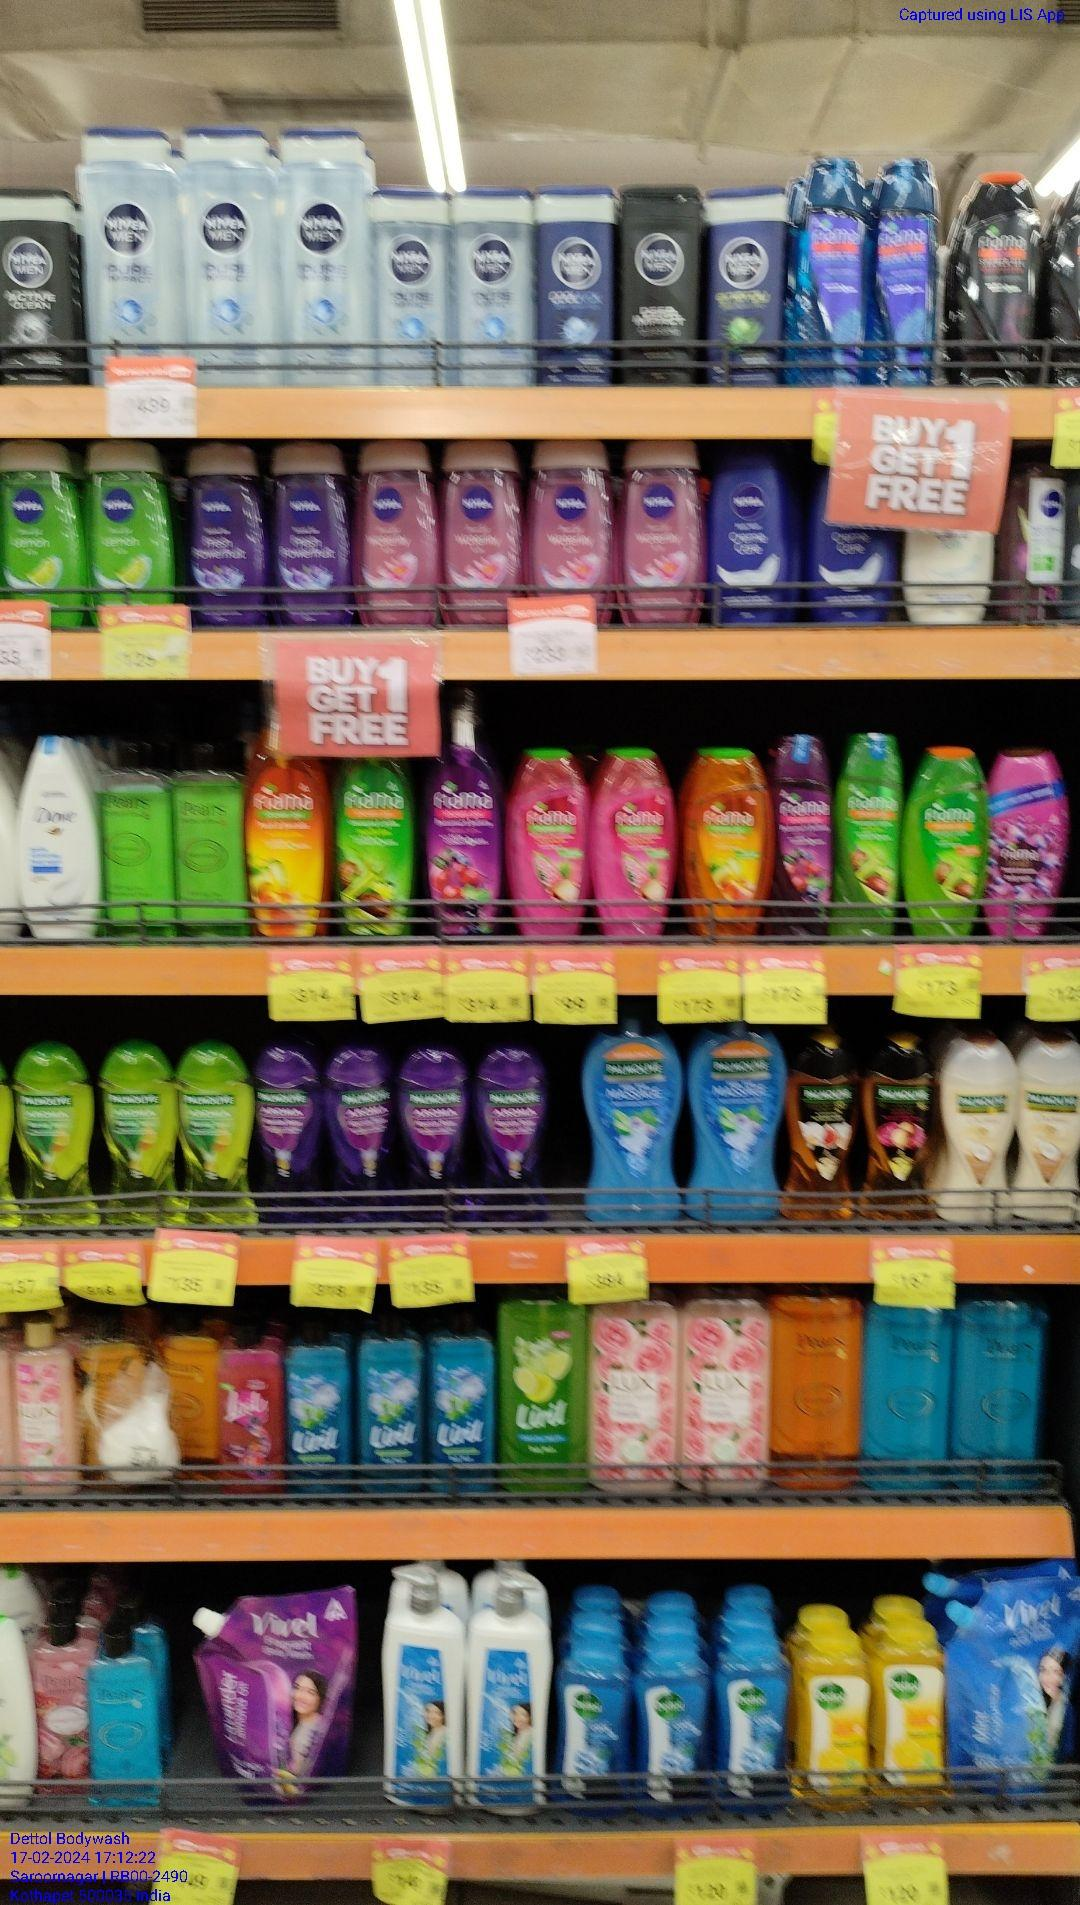Dettol_Bodywash_Cool: (551, 1633, 632, 1802), (712, 1635, 785, 1808), (639, 1634, 706, 1802)
Dettol_Bodywash_Refresh: (789, 1634, 872, 1802), (877, 1616, 952, 1800)
Dove_Gentle_Exfoliating_Body_Wash_250ML: (18, 730, 99, 935)
Fiama_Shower_Gel_Lemongrass_and_Jojoba_250ML: (901, 746, 987, 938)
Fiama_Shower_Gel_Patchouli_and_Macadamia_250ML: (593, 746, 678, 939), (512, 744, 589, 935)
Fiama_Shower_Gel_Peach_and_Avocado_250ML: (681, 746, 772, 933)
Liril_Cooling_Mint_Body_Wash_250ML: (429, 1306, 494, 1494), (360, 1311, 423, 1493), (287, 1316, 350, 1489)
Nivea_Shower_Gel_Fresh_Powerfruit_250ML: (189, 440, 270, 627), (274, 441, 353, 621)
Nivea_Shower_Gel_Lemon_and_Oil_250ML: (0, 441, 88, 631), (88, 438, 174, 604), (181, 737, 250, 942), (103, 743, 175, 935)
Nivea_Shower_Gel_Waterlily_and_Oil_250ML: (618, 440, 702, 625), (363, 440, 444, 628), (528, 436, 617, 597), (448, 442, 520, 625)
Palmolive_Aroma_Morning_Tonic_Shower_Gel_250ML: (14, 1047, 99, 1227), (183, 1036, 259, 1227), (103, 1041, 181, 1225)
Palmolive_Aroma_Relax_250ML: (466, 1040, 549, 1226), (331, 1041, 398, 1225), (402, 1035, 466, 1219), (263, 1043, 327, 1223)
Palmolive_Coconut_Joy_Exfoliating_Body_Wash_250ML: (939, 1032, 1012, 1230), (1016, 1028, 1080, 1225)
Palmolive_Luminous_Oils_Invigorating_Macadamia_Oil_With_Peony_250ML: (859, 1032, 929, 1222)
Palmolive_Luminous_Oils_With_White_Orchid_Shower_Gel_250ML: (787, 1032, 856, 1225)
Pears_Pure_Glycerin_and_Mint_Extracts_Body_Wash_250ML: (92, 1628, 161, 1813)
